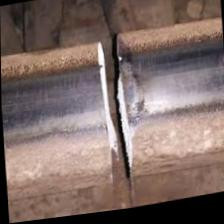person: (24, 22, 202, 199)
